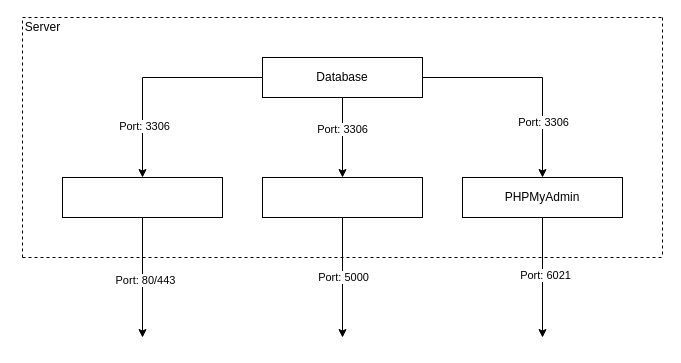
Some shapes in this 681 by 363 pixel diagram are drawn without their labels. The shapes that lost their labels are listed below. From the top down, each one's centre as x and y in pixels, then its label:
pixel 142 197: webserver
pixel 342 197: API server
